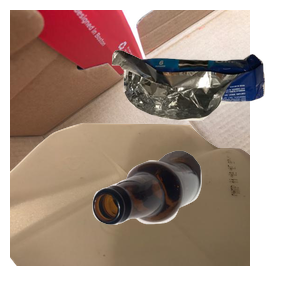cardboard: (10, 10, 250, 190)
glass: (90, 148, 300, 300)
plastic: (10, 120, 250, 300)
trash: (109, 47, 300, 160)
